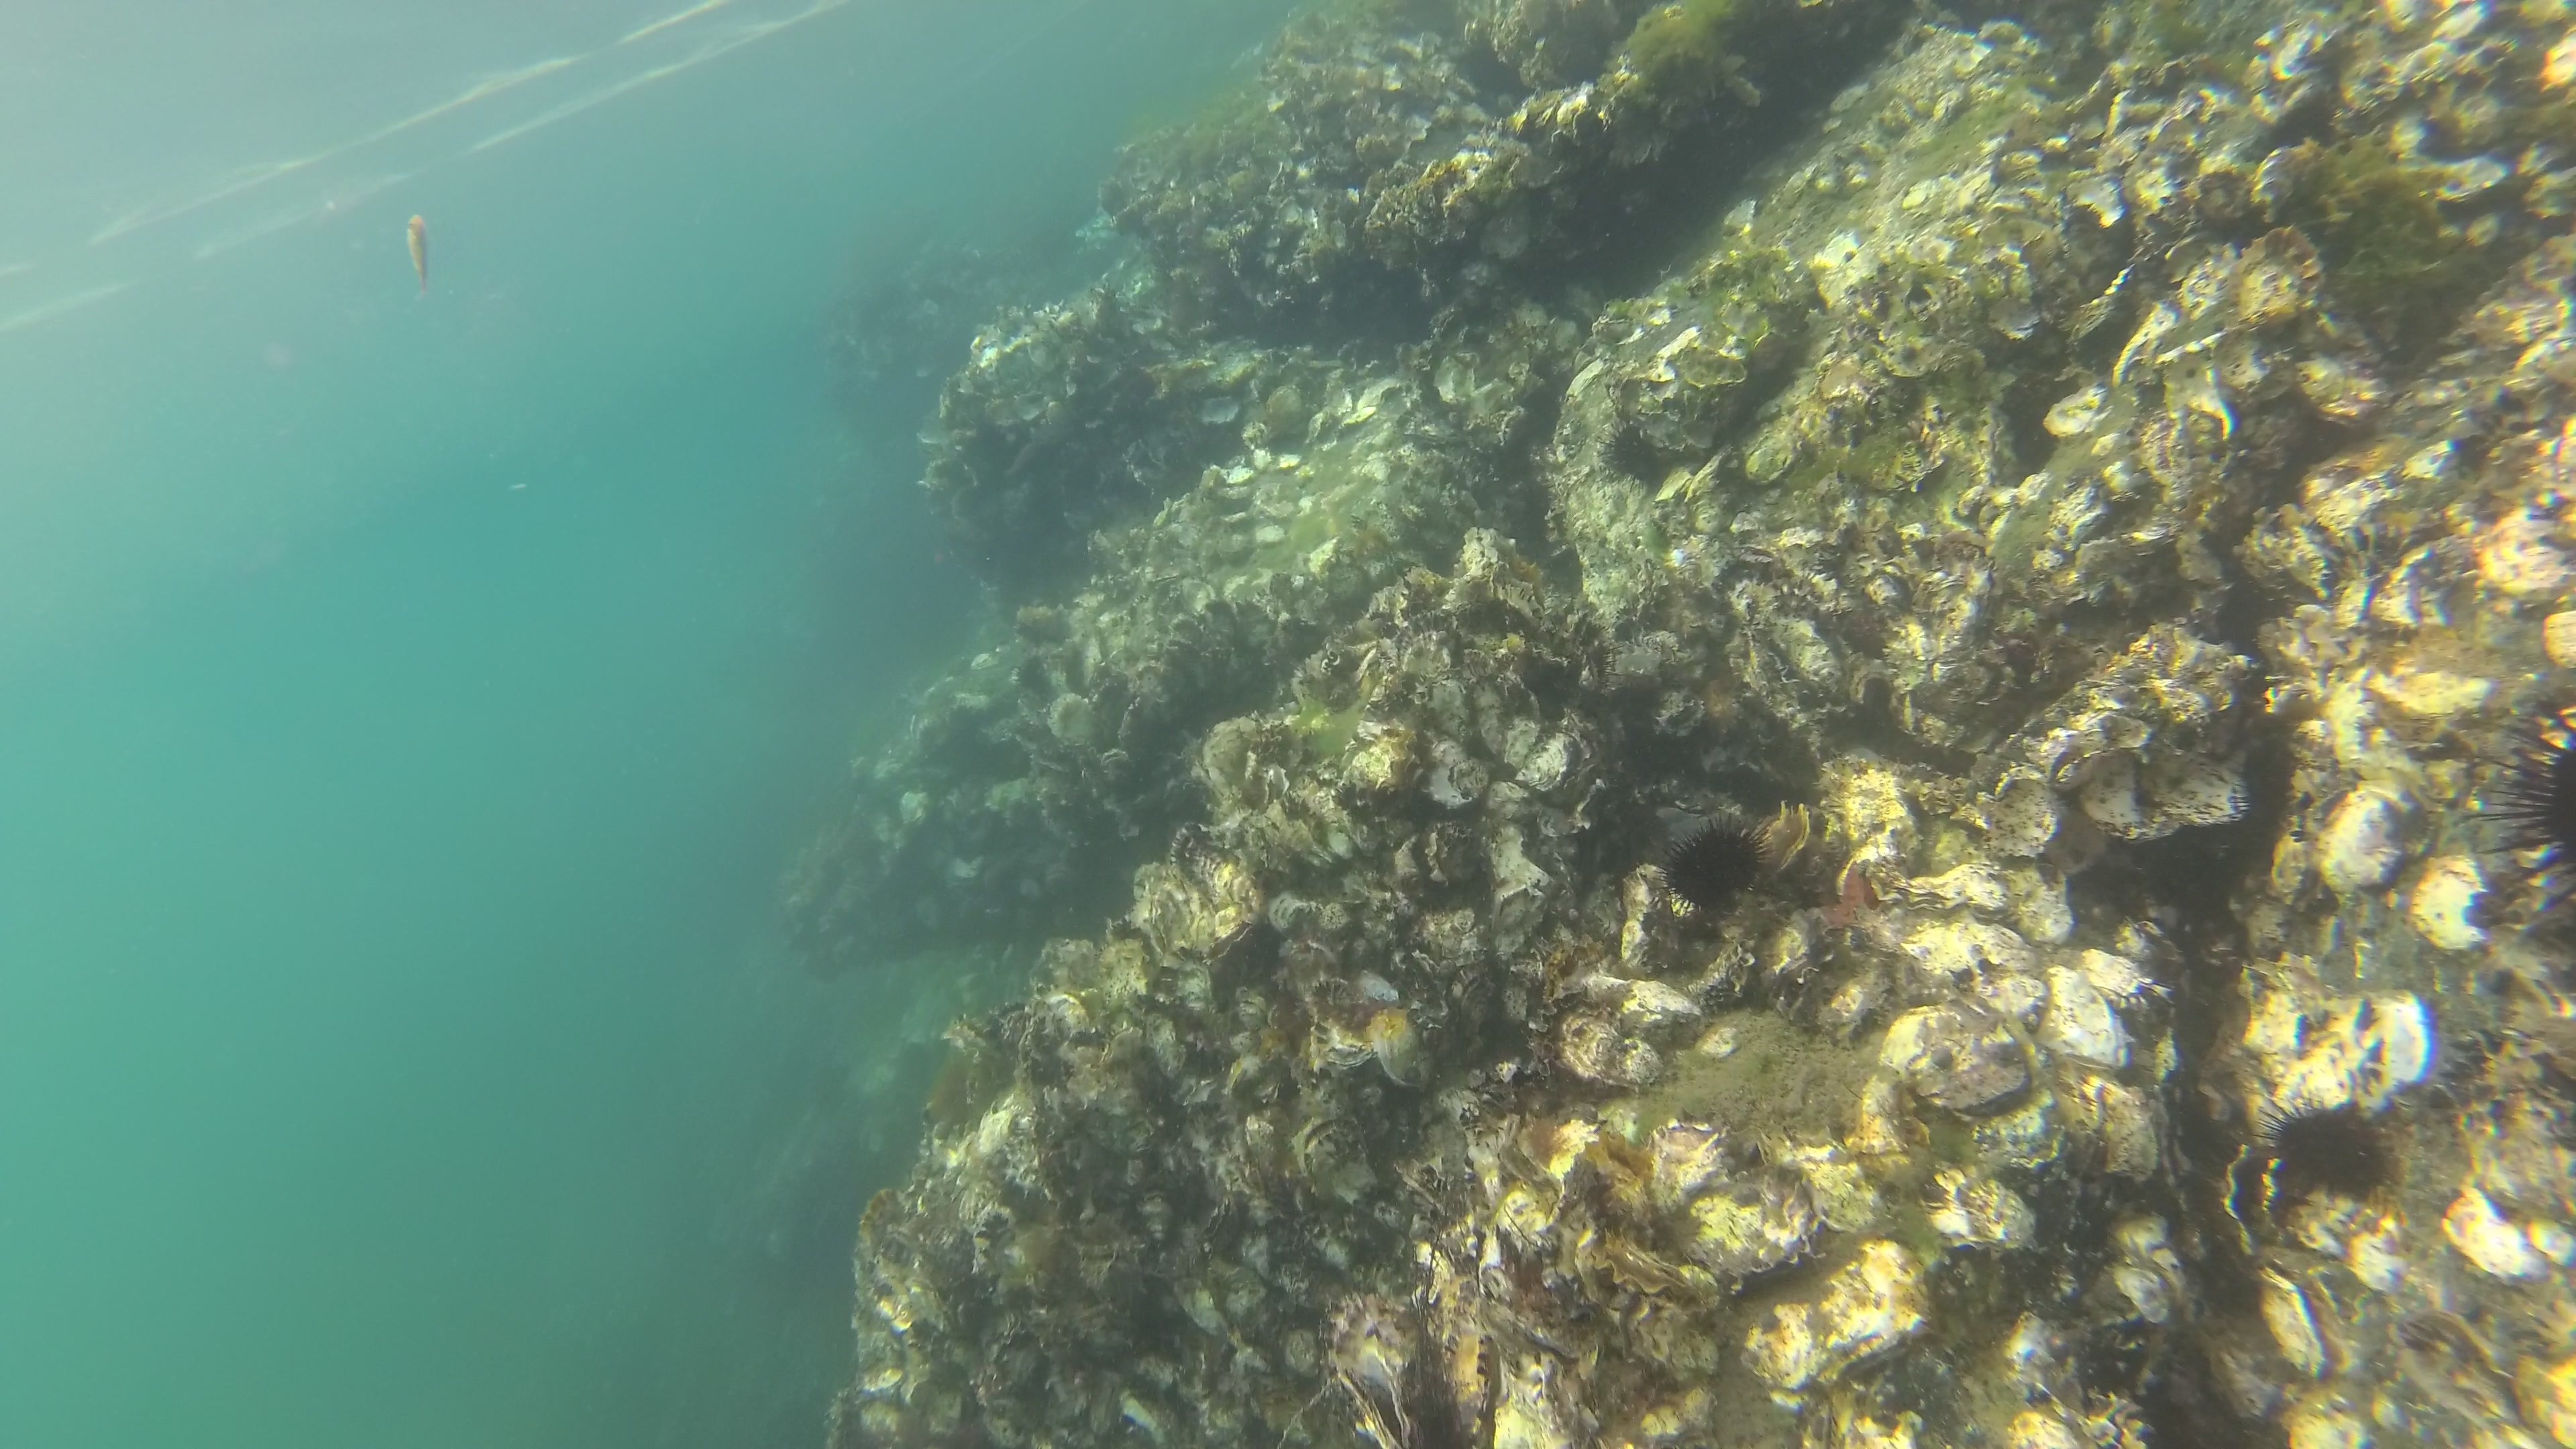echinus: (2489, 702, 2576, 908), (2263, 1097, 2401, 1205), (1674, 814, 1775, 916), (1598, 423, 1665, 497)
